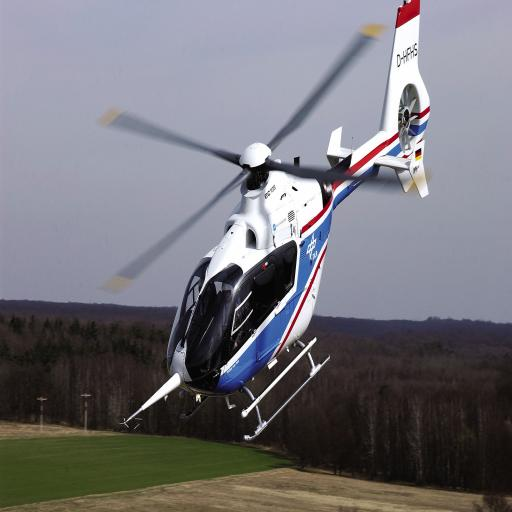helicopter: (99, 1, 433, 445)
